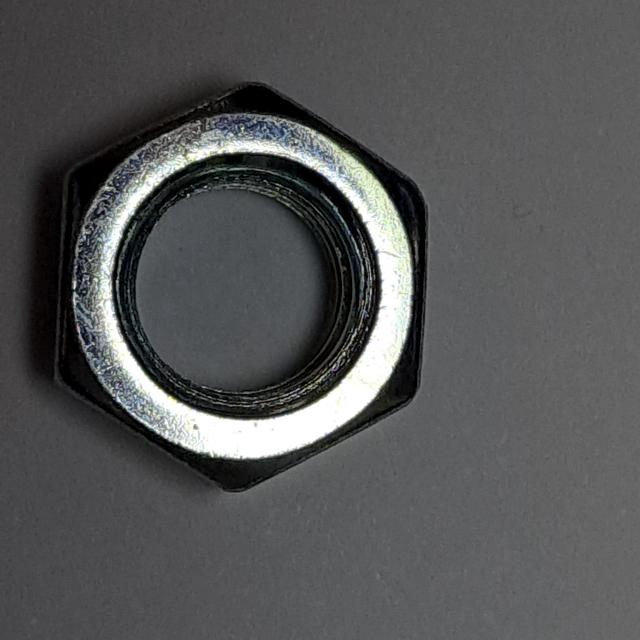Excellent: (45, 68, 445, 505)
